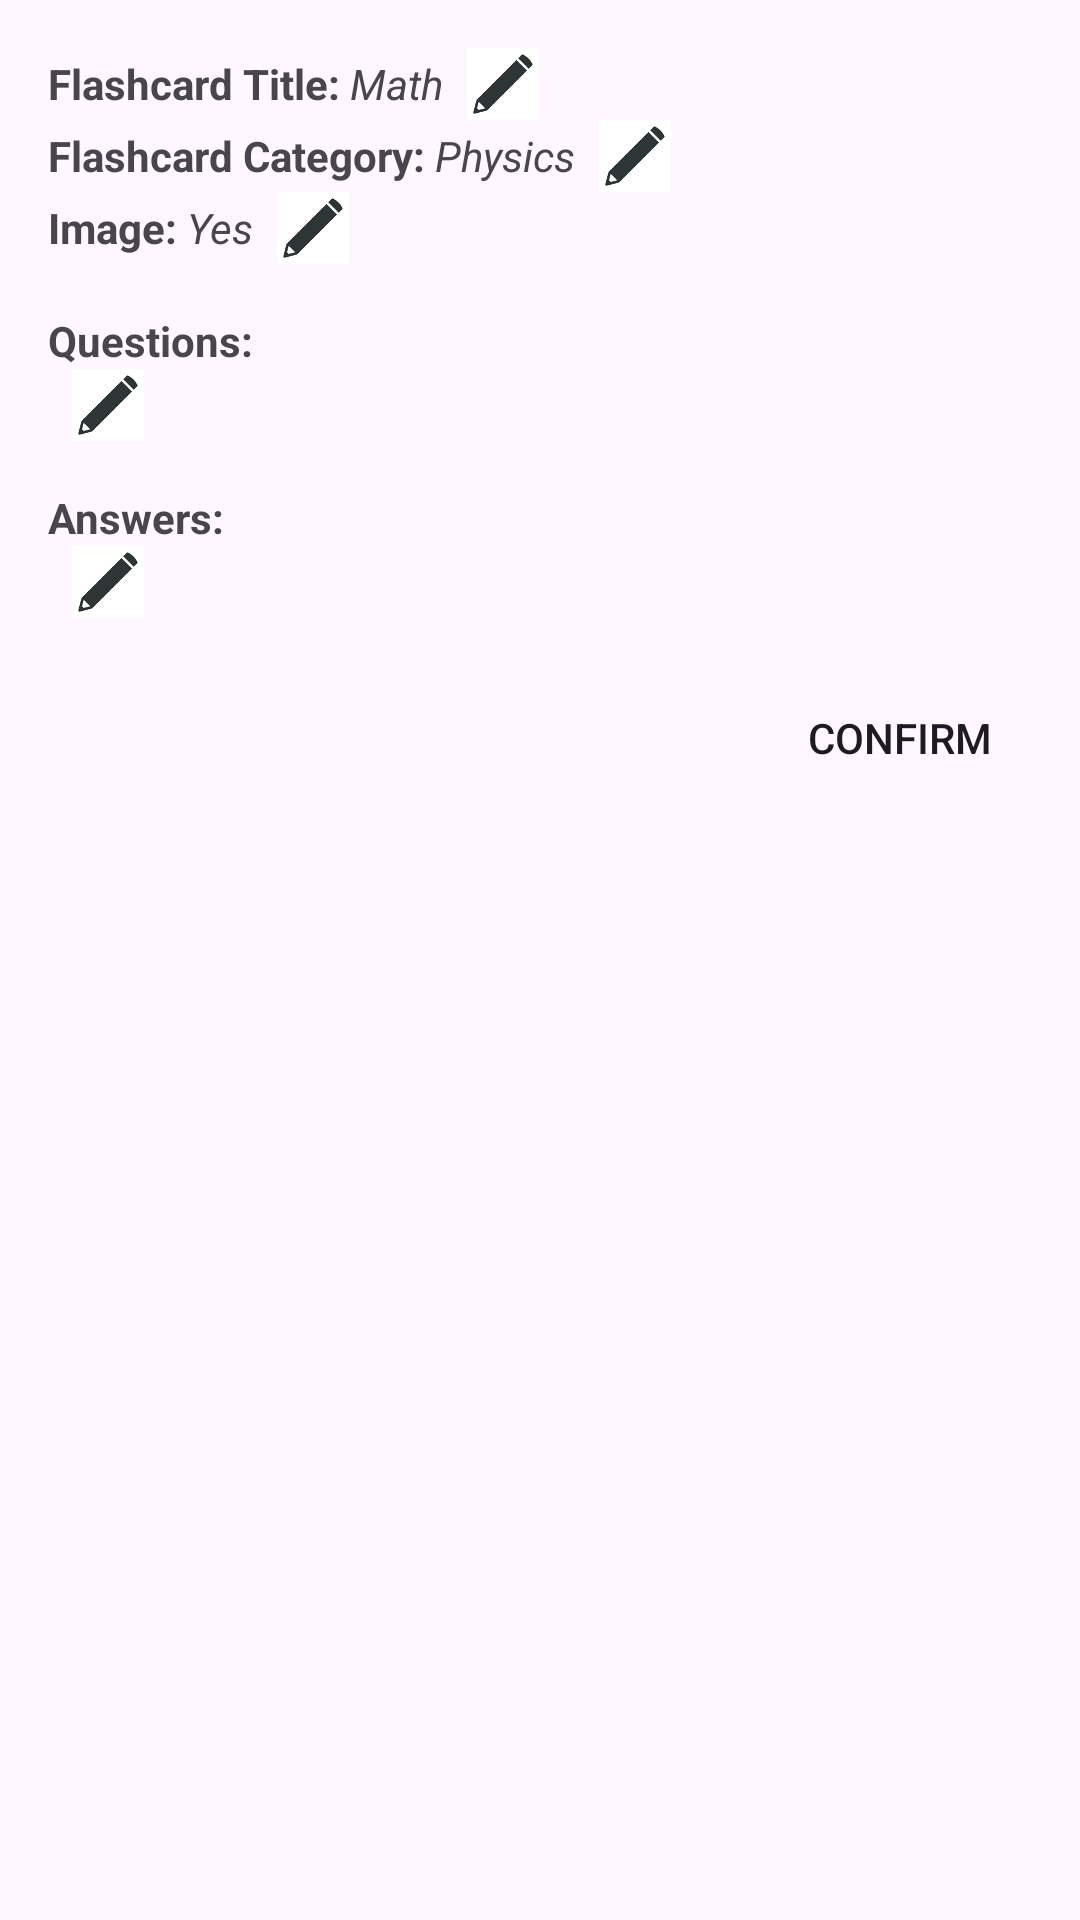

Named icons in this screenshot (1080x1920) and their bounding boxes, (x1, y1, x2, y2):
pencil: (473, 54, 533, 114), (605, 126, 665, 186), (283, 198, 343, 258), (78, 375, 138, 435), (78, 552, 138, 612)
